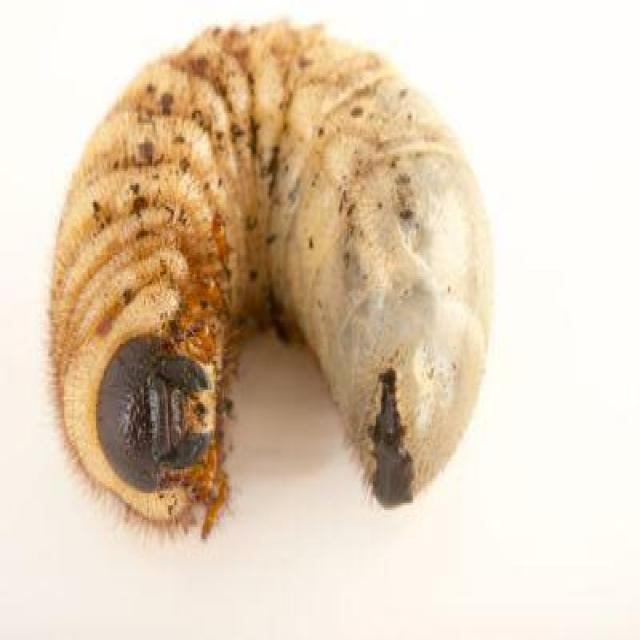Grub-Adult-: (42, 5, 503, 562)
